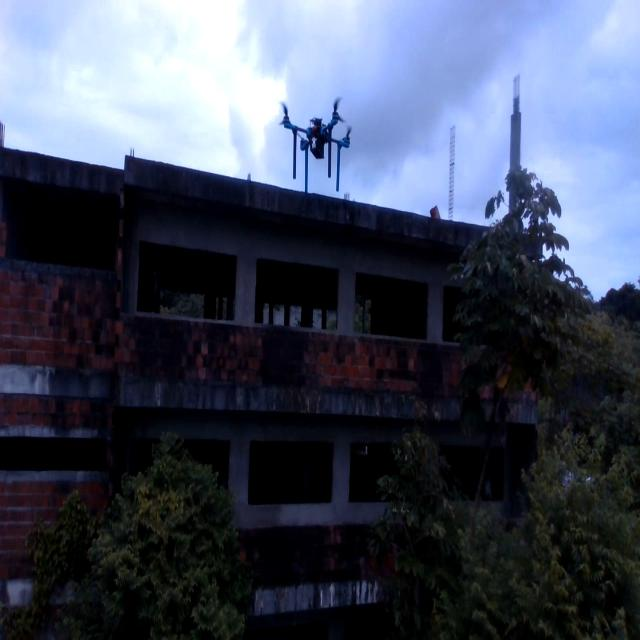-uav-: (266, 59, 374, 236)
